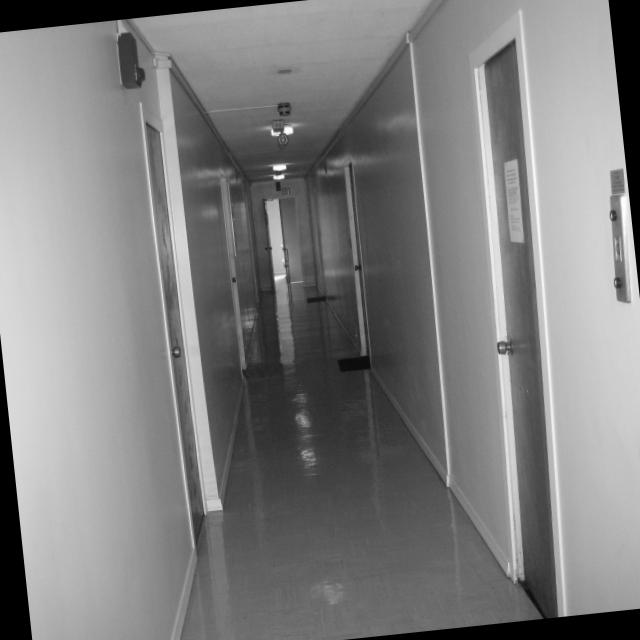ceiling beam: (129, 0, 434, 184)
door bars: (482, 41, 558, 618), (146, 123, 204, 545)
exit sign: (280, 186, 290, 195)
floor -X: (180, 273, 546, 640)
wall clock: (306, 0, 640, 618), (0, 19, 262, 640)
